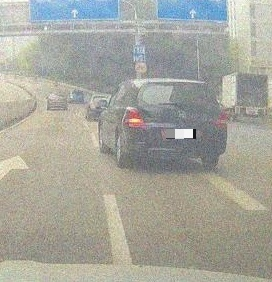L_light: (121, 107, 147, 130)
R_light: (213, 108, 227, 127)
T_light: (175, 81, 191, 85)
day-left: (121, 81, 228, 167)
plate_1: (166, 129, 196, 139)
